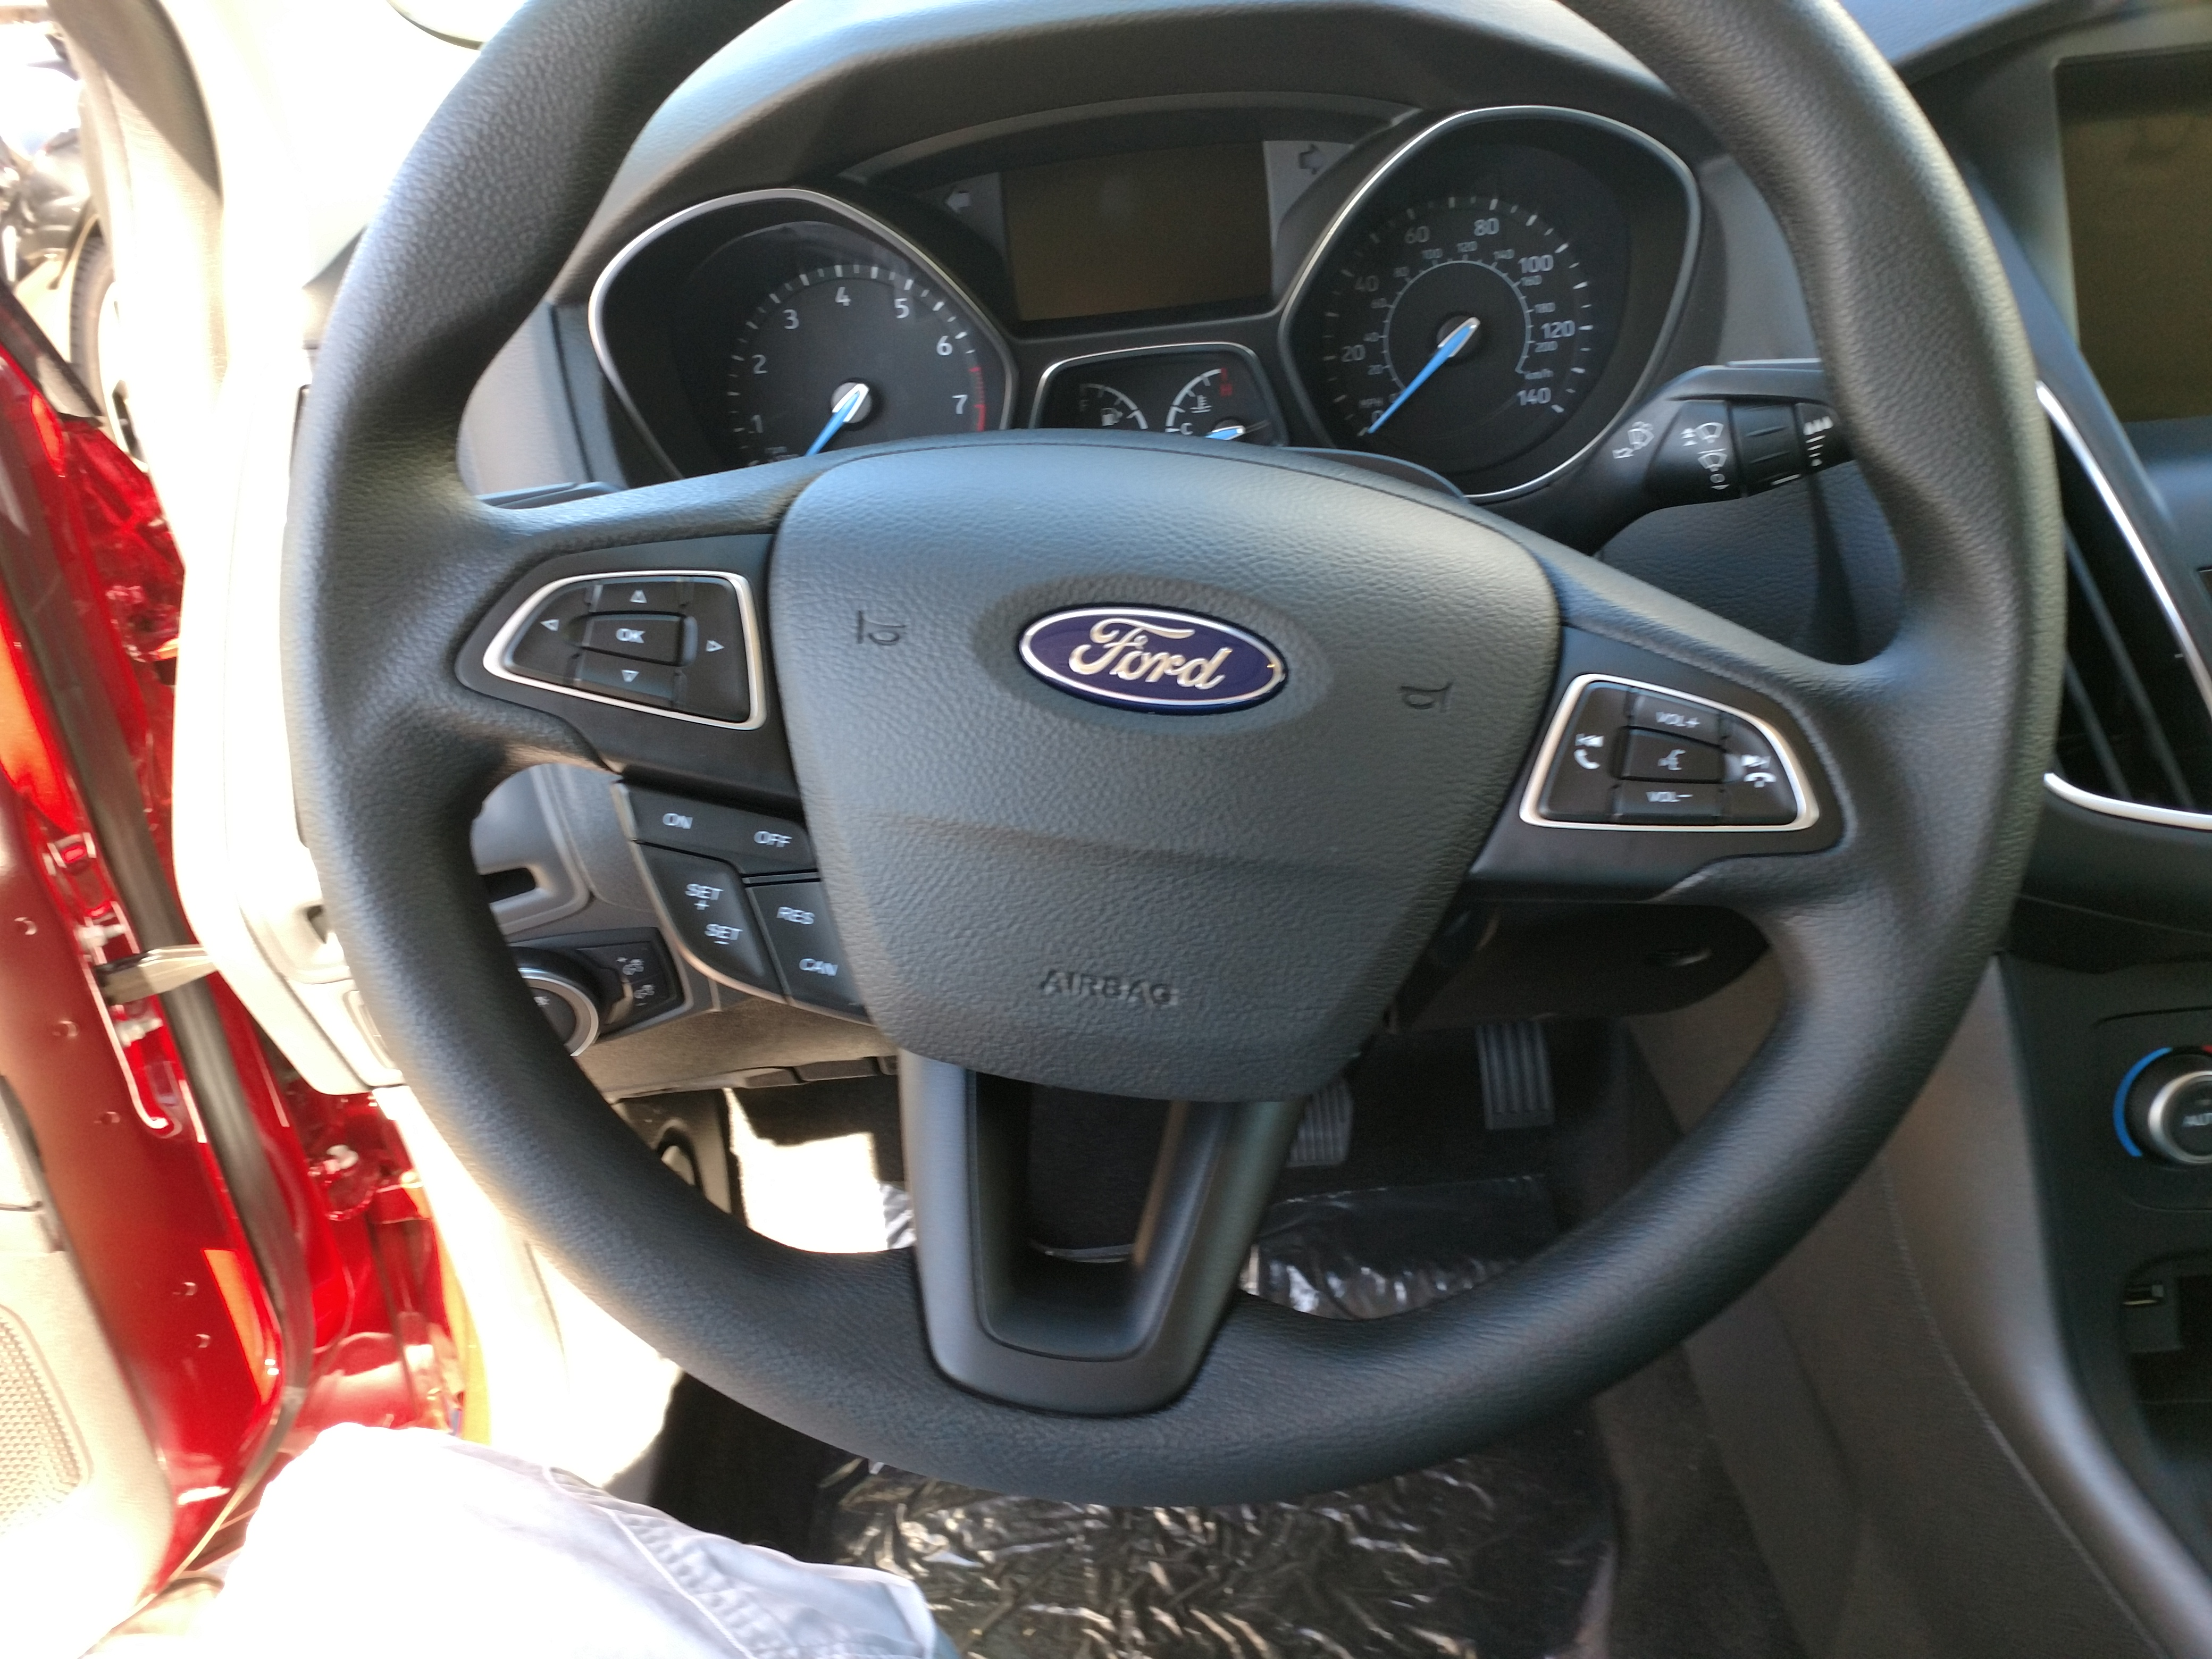Ford: (1003, 596, 1301, 725)
